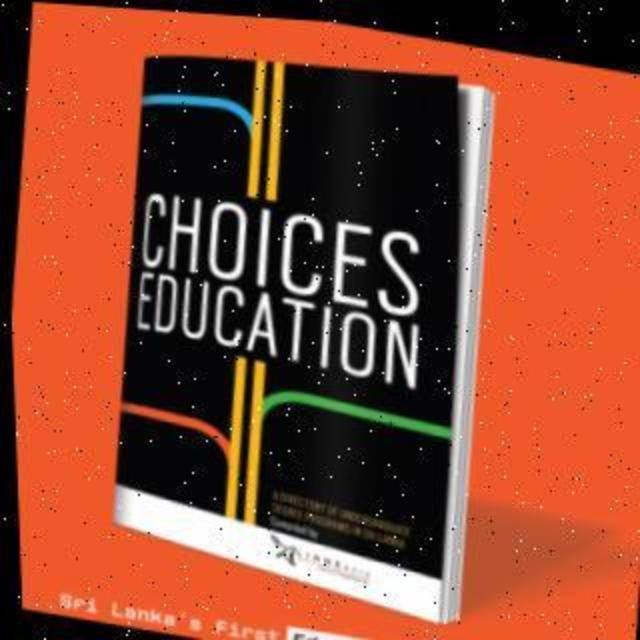book: (78, 4, 548, 640)
